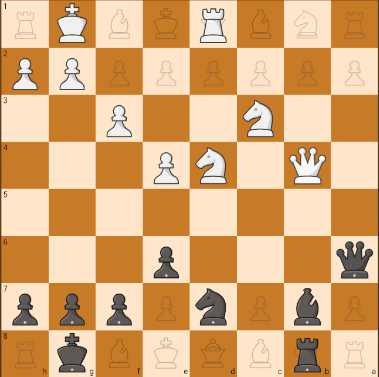bb: (286, 286, 328, 327)
bk: (52, 330, 94, 376)
bn: (193, 285, 231, 327)
bp: (3, 286, 46, 330), (51, 285, 92, 327), (97, 287, 138, 328), (145, 241, 188, 280)
bq: (334, 237, 375, 282)
br: (287, 335, 328, 376)
wk: (51, 2, 94, 46)
wn: (194, 143, 233, 187), (238, 98, 279, 138)
wp: (53, 53, 93, 96), (146, 149, 188, 186), (3, 58, 46, 91), (105, 103, 135, 139)
wq: (287, 143, 328, 187)
wr: (193, 5, 233, 45)
